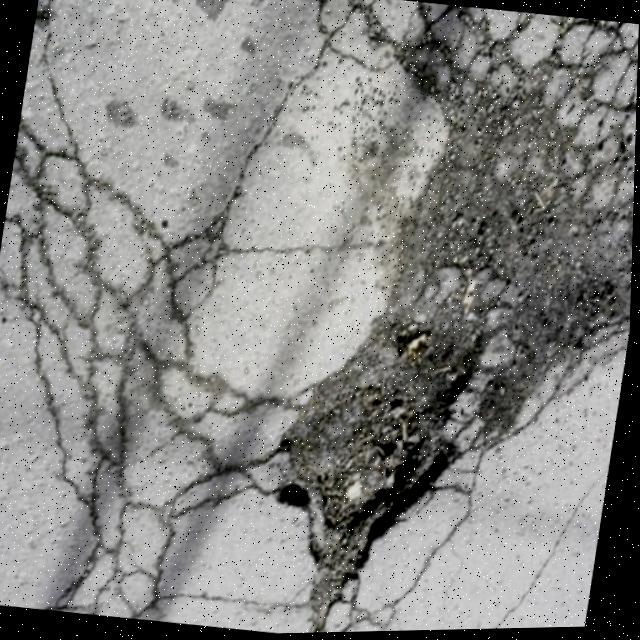Pothole: (247, 240, 523, 616)
